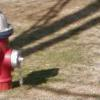Hydrant: (1, 13, 28, 100)
